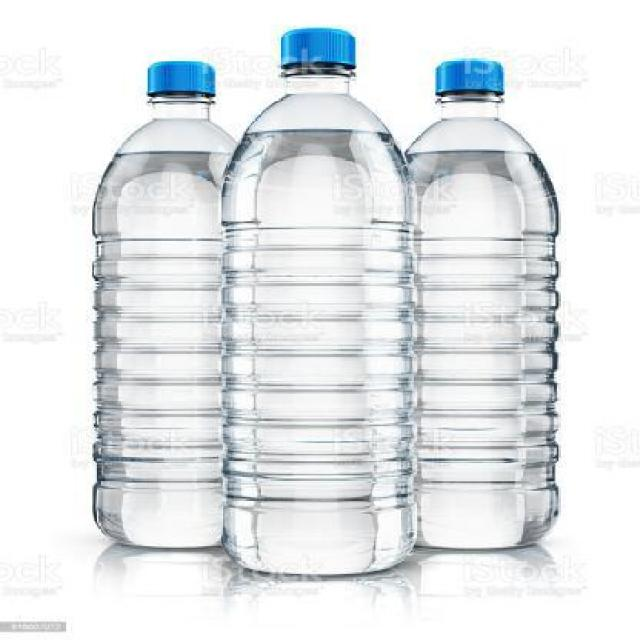bottle: (222, 28, 416, 592), (410, 45, 561, 568), (87, 43, 224, 552)
